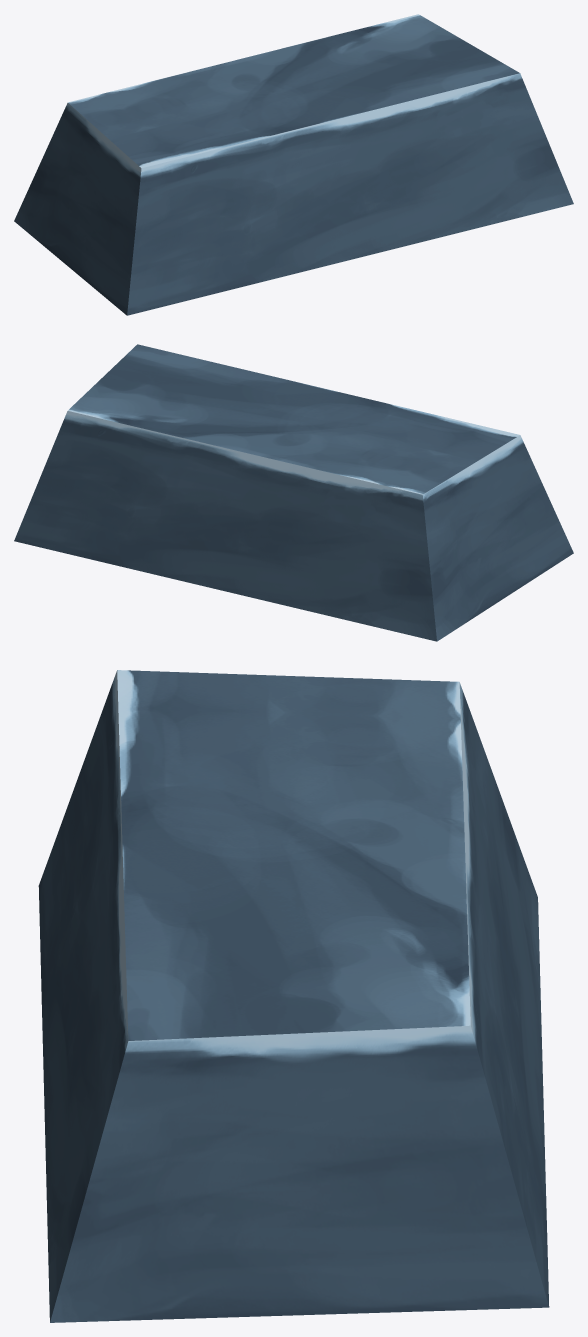
File: SM_PROP_gravestone_base_01.fbx
3 renders of one model, top to bottom at view 1: azimuth 30°, elevation 25°; view 2: azimuth 150°, elevation 25°; view 3: azimuth 270°, elevation 25°, orthographic. The views are drawn at different scales.
Visible parts, largest first — view 1: SM_PROP_gravestone_base_01; view 2: SM_PROP_gravestone_base_01; view 3: SM_PROP_gravestone_base_01.
Part boxes in pixels (x1=…): SM_PROP_gravestone_base_01: x1=14, y1=14, x2=573, y2=315; SM_PROP_gravestone_base_01: x1=14, y1=344, x2=573, y2=641; SM_PROP_gravestone_base_01: x1=38, y1=670, x2=549, y2=1322.
Bounding box in the file's own units: 151 × 40 × 74.39.
